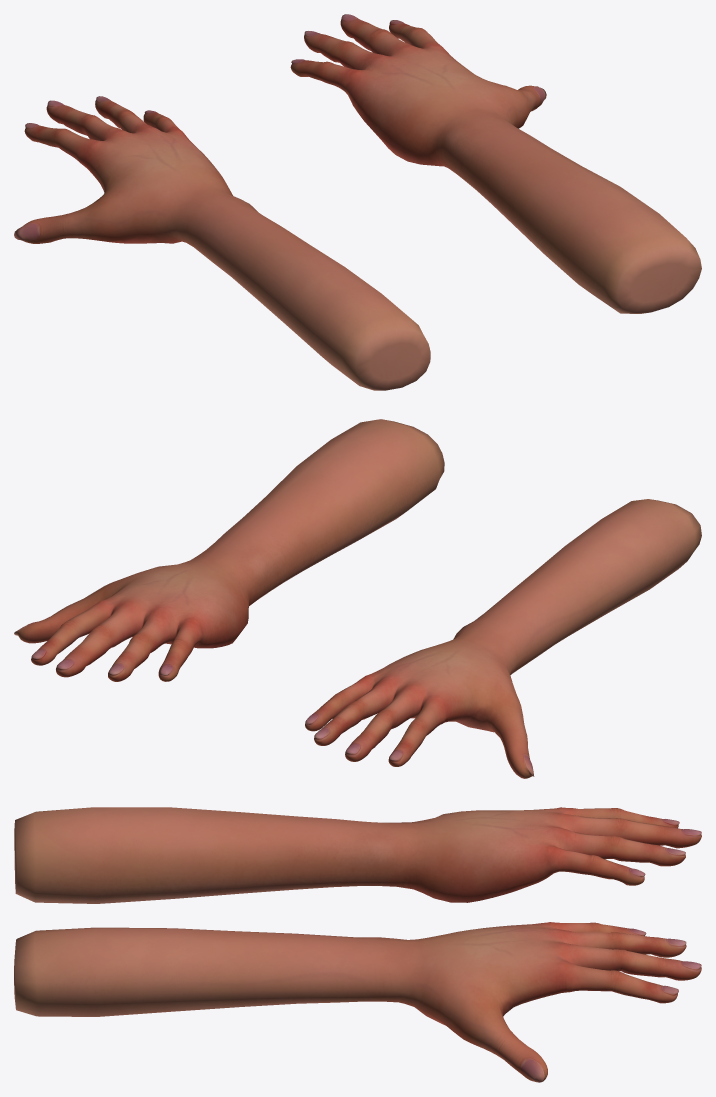
The model's file is first_person_23132arms.glb.
The picture shows the model from 3 angles, top to bottom: view 1: azimuth 30°, elevation 25°; view 2: azimuth 150°, elevation 25°; view 3: azimuth 270°, elevation 25°; orthographic projection. The views are drawn at different scales.
Visible parts, largest first — view 1: Female_Arm, Female_Arm_FemaleArm_0.001; view 2: Female_Arm, Female_Arm_FemaleArm_0.001; view 3: Female_Arm, Female_Arm_FemaleArm_0.001.
Boxes of the visible parts, <box> form: Female_Arm: <box>290,14,701,313</box>; Female_Arm_FemaleArm_0.001: <box>14,96,430,390</box>; Female_Arm: <box>14,419,444,681</box>; Female_Arm_FemaleArm_0.001: <box>305,499,701,778</box>; Female_Arm: <box>14,922,701,1082</box>; Female_Arm_FemaleArm_0.001: <box>14,807,701,903</box>.
Size of the model in its own units: 41.79 by 7.3 by 45.63.
Materials: 2 (2 with a texture image).
